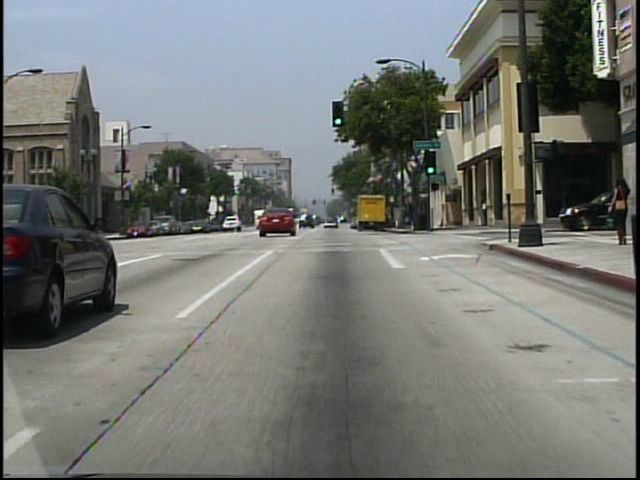person: (606, 177, 630, 250), (479, 197, 489, 230)
